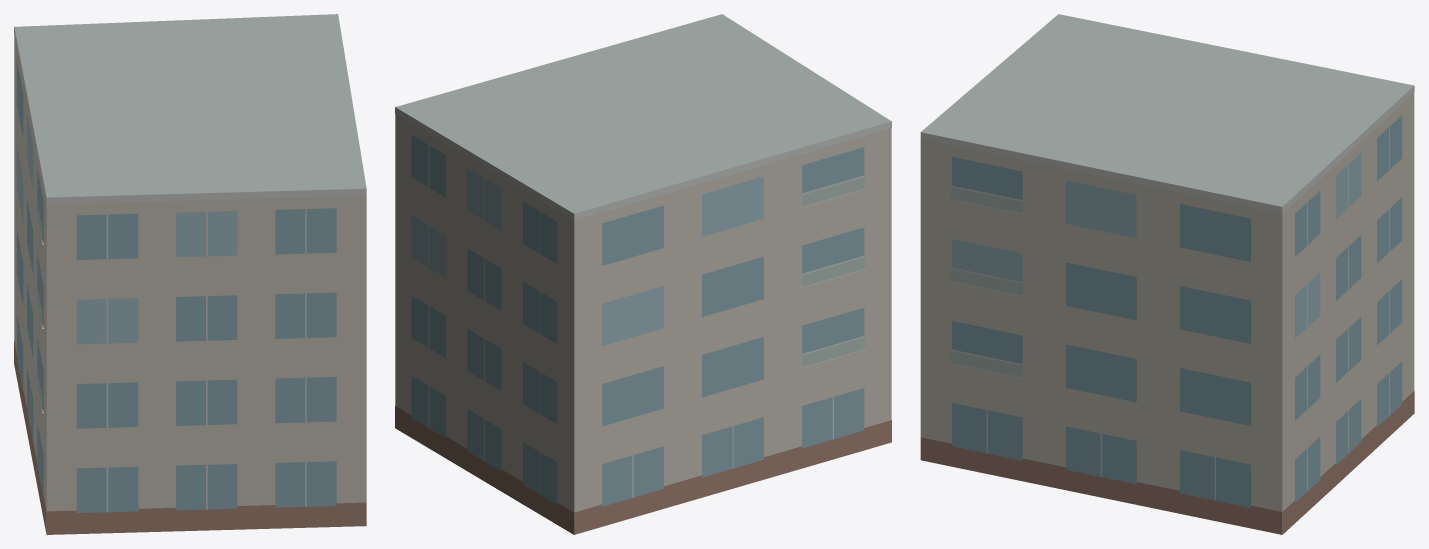
File: survey-upis-32811123.glb
The picture shows the model from 3 angles, left to right: view 1: azimuth 30°, elevation 25°; view 2: azimuth 150°, elevation 25°; view 3: azimuth 270°, elevation 25°; orthographic projection. The views are drawn at different scales.
Parts seen in each view (by area): view 1: survey-upis-32811123.tmp; view 2: survey-upis-32811123.tmp; view 3: survey-upis-32811123.tmp.
Part boxes in pixels (x1,y1,x2,y2): survey-upis-32811123.tmp: [14, 14, 366, 534]; survey-upis-32811123.tmp: [395, 14, 891, 534]; survey-upis-32811123.tmp: [920, 14, 1414, 534].
Size of the model in its own units: 14.77 by 11.7 by 15.98.
